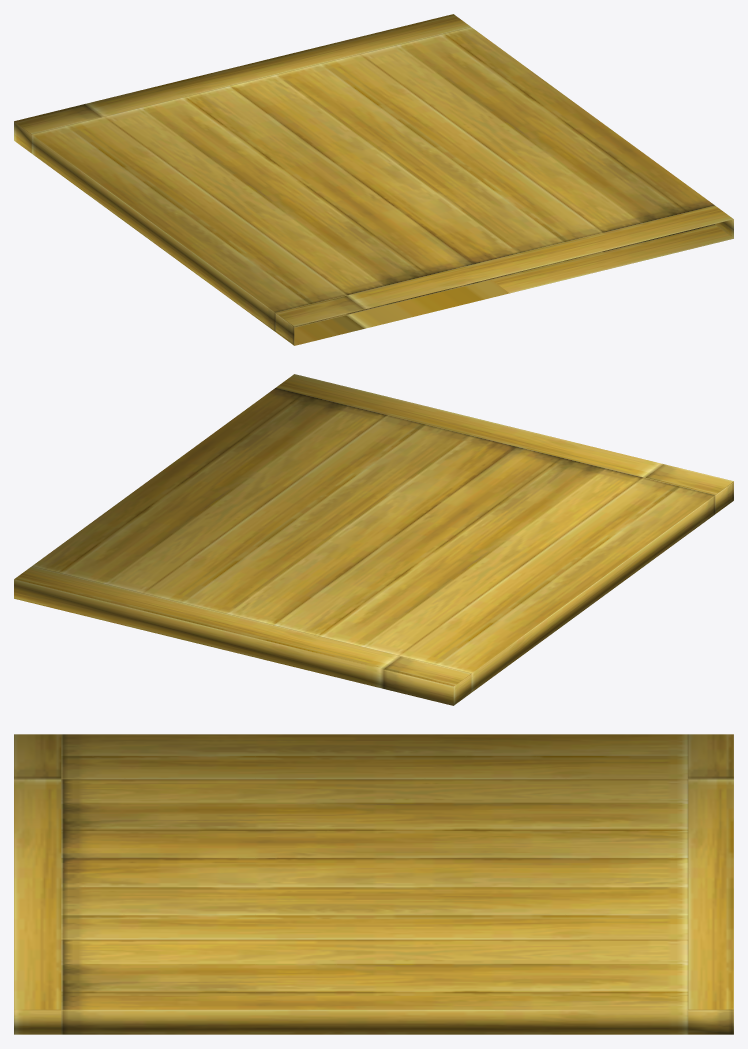
File: HTOWN01_MILLPLATFORM04.fbx
The picture shows the model from 3 angles, top to bottom: view 1: azimuth 30°, elevation 25°; view 2: azimuth 150°, elevation 25°; view 3: azimuth 270°, elevation 25°; orthographic projection. The views are drawn at different scales.
Visible parts, largest first — view 1: HTOWN01_MILLPLATFORM04; view 2: HTOWN01_MILLPLATFORM04; view 3: HTOWN01_MILLPLATFORM04.
Boxes of the visible parts, box(x1,y1,x2,y2) form: HTOWN01_MILLPLATFORM04: box(14, 14, 733, 345); HTOWN01_MILLPLATFORM04: box(14, 374, 733, 705); HTOWN01_MILLPLATFORM04: box(14, 734, 733, 1034).
Size of the model in its own units: 38107 by 1608 by 42115.
Materials: 1 (1 with a texture image).
